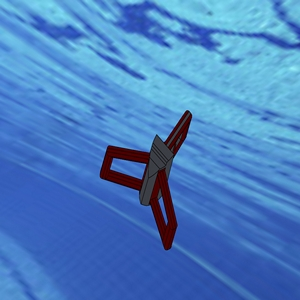submarine: (58, 80, 242, 259)
